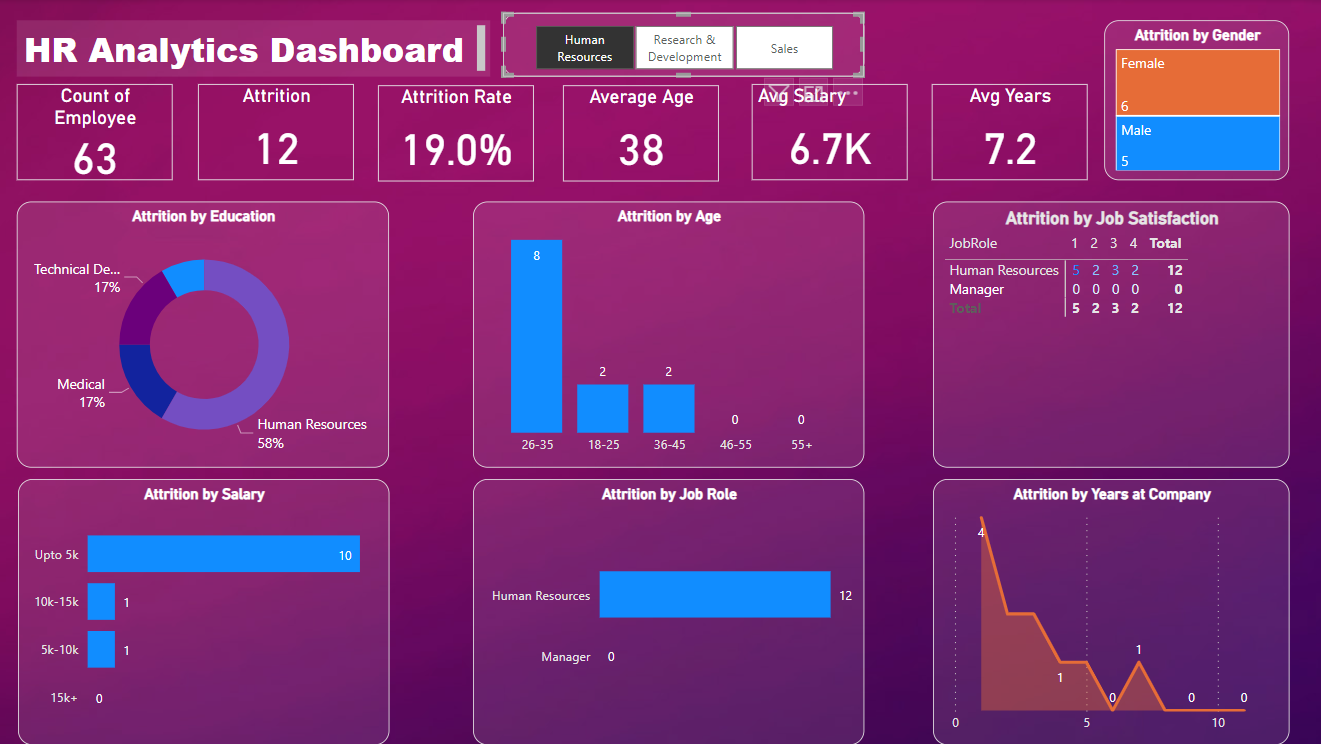

The page's visual inventory and layout, read from the dashboard file:
{"tool":"powerbi","page":{"name":"Page 1","canvas":[1280,720],"ordinal":0},"visuals":[{"type":"card","title":"Count of Employee","fields":{"Values":["Count(HR_Analytics.EmpID)"]},"box":[18.6,81.4,150,92.9],"z":0},{"type":"card","title":"Attrition","fields":{"Values":["Sum(HR_Analytics.AttritionCount)"]},"box":[192.9,81.4,150,92.9],"z":1000},{"type":"card","title":"Average Age","fields":{"Values":["Avg(HR_Analytics.Age)"]},"box":[545.7,82.9,150,92.9],"z":2000},{"type":"card","title":"Attrition Rate","fields":{"Values":["HR_Analytics.AttritionRate"]},"box":[367.1,82.9,150,92.9],"z":3000},{"type":"card","title":"Avg Salary","fields":{"Values":["Avg(HR_Analytics.MonthlyIncome)"]},"box":[727.1,81.4,150,92.9],"z":4000},{"type":"card","title":"Avg Years","fields":{"Values":["Avg(HR_Analytics.YearsAtCompany)"]},"box":[901.4,81.4,150,92.9],"z":5000},{"type":"donutChart","title":"Attrition by Education","fields":{"Category":["HR_Analytics.EducationField"],"Y":["Sum(HR_Analytics.AttritionCount)"]},"box":[18.1,195.4,359.4,256.9],"z":6000},{"type":"columnChart","title":"Attrition by Age","fields":{"Category":["HR_Analytics.AgeGroup"],"Y":["Sum(HR_Analytics.AttritionCount)"]},"box":[458.3,195.4,377.5,256.9],"z":7000},{"type":"pivotTable","title":"Attrition by Job Satisfaction","fields":{"Rows":["HR_Analytics.JobRole"],"Columns":["HR_Analytics.JobSatisfaction"],"Values":["Sum(HR_Analytics.AttritionCount)"]},"box":[902,195.7,344.3,257.1],"z":8000},{"type":"clusteredBarChart","title":"Attrition by Salary","fields":{"Category":["HR_Analytics.SalarySlab"],"Y":["Sum(HR_Analytics.AttritionCount)"]},"box":[19.3,463.1,358.2,256.9],"z":9000},{"type":"clusteredBarChart","title":"Attrition by Job Role","fields":{"Category":["HR_Analytics.JobRole"],"Y":["Sum(HR_Analytics.AttritionCount)"]},"box":[458.3,463.1,377.5,256.9],"z":10000},{"type":"areaChart","title":"Attrition by Years at Company","fields":{"Category":["HR_Analytics.YearsAtCompany"],"Y":["Sum(HR_Analytics.AttritionCount)"]},"box":[902,462.9,344.3,257.1],"z":11000},{"type":"treemap","title":"Attrition by Gender","fields":{"Group":["HR_Analytics.Gender"],"Values":["Sum(HR_Analytics.AttritionCount)"]},"box":[1067.7,20,178.6,154.3],"z":12000},{"type":"slicer","fields":{"Values":["HR_Analytics.Department"]},"box":[487.7,12.9,348.6,61.4],"z":13000},{"type":"textbox","box":[18.6,20,457.1,54.3],"z":14000}]}

Visuals, with their boxes in screenshot pixels (x1, y1, x2, y2), scaled from the page's 1280x720 canvas onto the 1321x744 screenshot:
"Count of Employee" card: box=[19, 84, 174, 180]
"Attrition" card: box=[199, 84, 354, 180]
"Average Age" card: box=[563, 86, 718, 182]
"Attrition Rate" card: box=[379, 86, 534, 182]
"Avg Salary" card: box=[750, 84, 905, 180]
"Avg Years" card: box=[930, 84, 1085, 180]
"Attrition by Education" donutChart: box=[19, 202, 390, 467]
"Attrition by Age" columnChart: box=[473, 202, 863, 467]
"Attrition by Job Satisfaction" pivotTable: box=[931, 202, 1286, 468]
"Attrition by Salary" clusteredBarChart: box=[20, 479, 390, 743]
"Attrition by Job Role" clusteredBarChart: box=[473, 479, 863, 743]
"Attrition by Years at Company" areaChart: box=[931, 478, 1286, 743]
"Attrition by Gender" treemap: box=[1102, 21, 1286, 180]
slicer - HR_Analytics.Department: box=[503, 13, 863, 77]
textbox: box=[19, 21, 491, 77]
